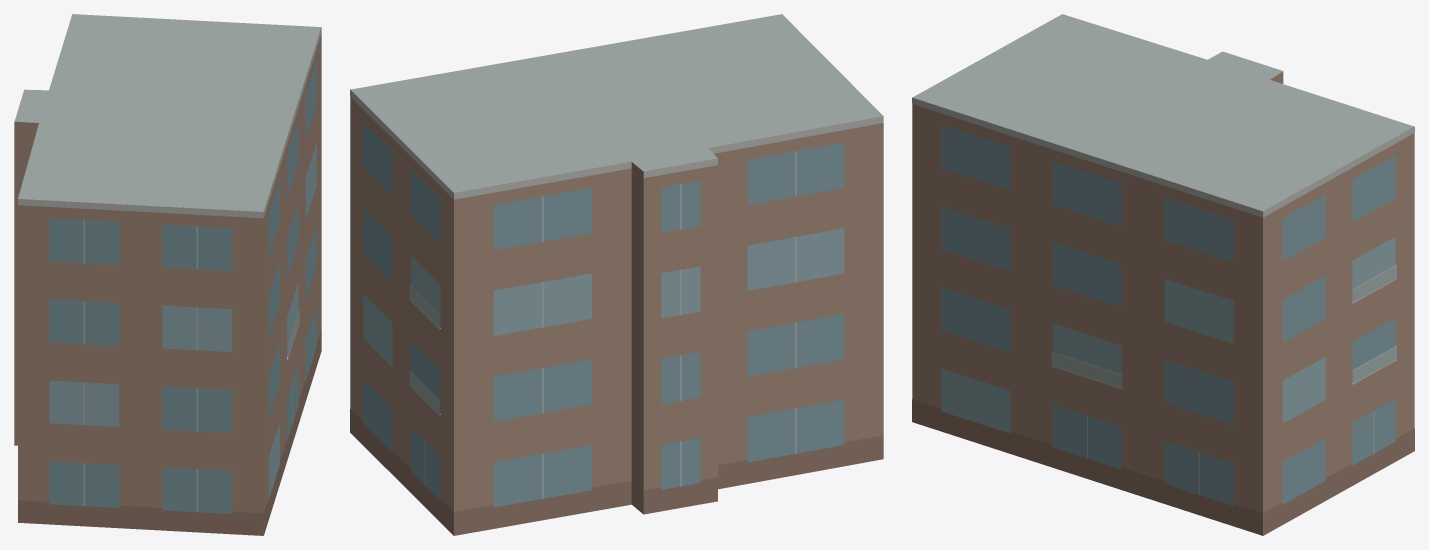
The model's file is survey-upis-32632070.glb.
3 renders of one model, left to right at view 1: azimuth 30°, elevation 25°; view 2: azimuth 150°, elevation 25°; view 3: azimuth 270°, elevation 25°, orthographic. The views are drawn at different scales.
Parts seen in each view (by area): view 1: survey-upis-32632070.tmp; view 2: survey-upis-32632070.tmp; view 3: survey-upis-32632070.tmp.
Boxes of the visible parts, x1,y1,x2,y2 form: survey-upis-32632070.tmp: [14, 14, 321, 535]; survey-upis-32632070.tmp: [350, 14, 883, 535]; survey-upis-32632070.tmp: [912, 14, 1414, 535].
Bounding box in the file's own units: 16.45 × 12.6 × 17.69.
